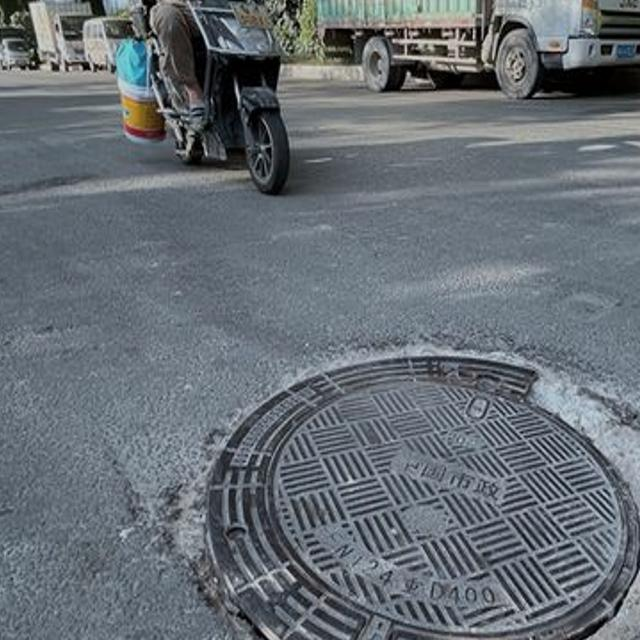circle: (111, 295, 640, 640)
